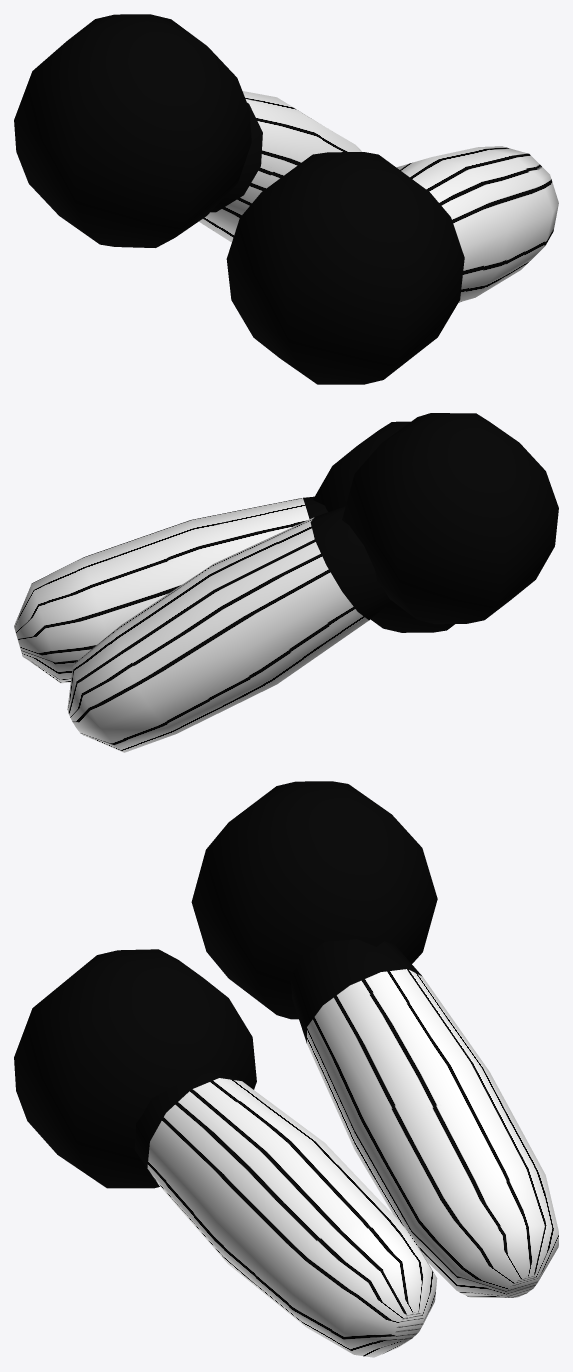
Rendered from arms.gltf.
3 views of the same model, one above another, from view 1: azimuth 30°, elevation 25°; view 2: azimuth 150°, elevation 25°; view 3: azimuth 270°, elevation 25° (orthographic). The views are drawn at different scales.
Parts seen in each view (by area): view 1: hand, arm; view 2: arm, hand; view 3: arm, hand.
Boxes of the visible parts, x1=… form: hand: x1=14, y1=14, x2=464, y2=384; arm: x1=199, y1=91, x2=558, y2=302; arm: x1=14, y1=496, x2=391, y2=752; hand: x1=313, y1=413, x2=558, y2=632; arm: x1=134, y1=939, x2=558, y2=1357; hand: x1=14, y1=781, x2=437, y2=1188.
Size of the model in its own units: 4.19 by 2.73 by 3.64.
2 materials, 1 textured.
